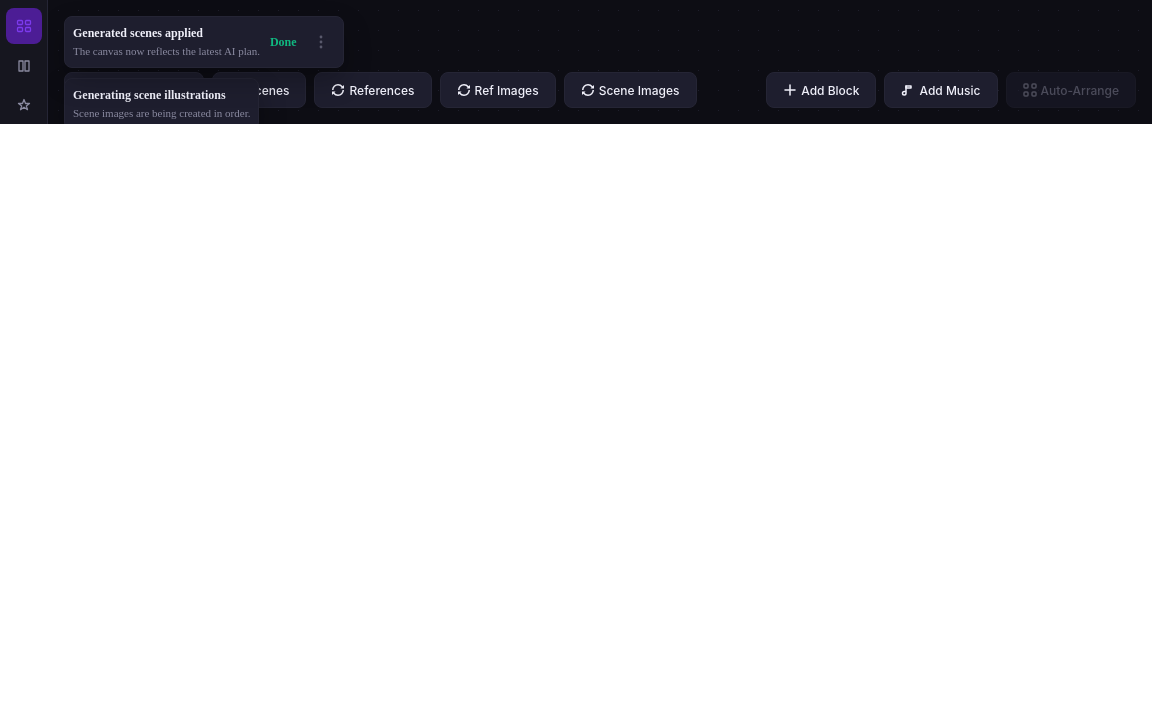
Test: StoryboardPageWorkspace — status menu wiring (T6 integration) › enumerates only the present losses in the confirm modal (AC-08)
The image size is (1152, 720).
Click the button with test id "storyboard-status-menu-trigger": (321, 42) [307, 28, 335, 56]
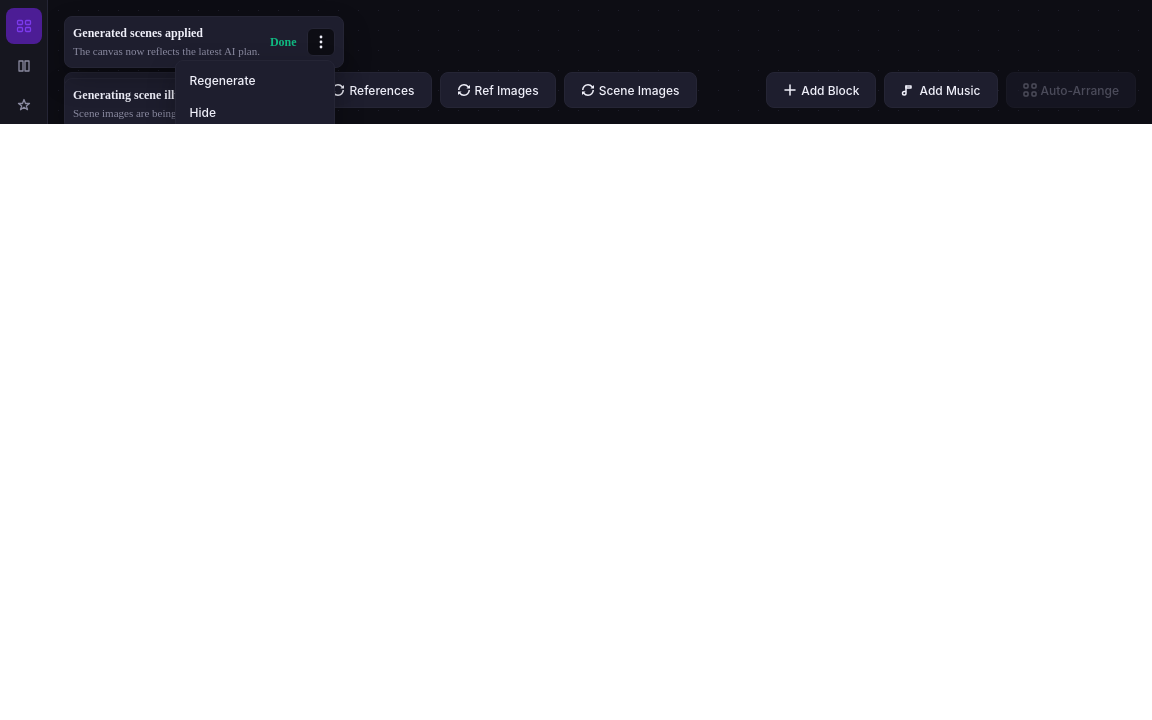
Click the menu item with test id "storyboard-status-menu-regenerate": (255, 81) [180, 65, 330, 97]
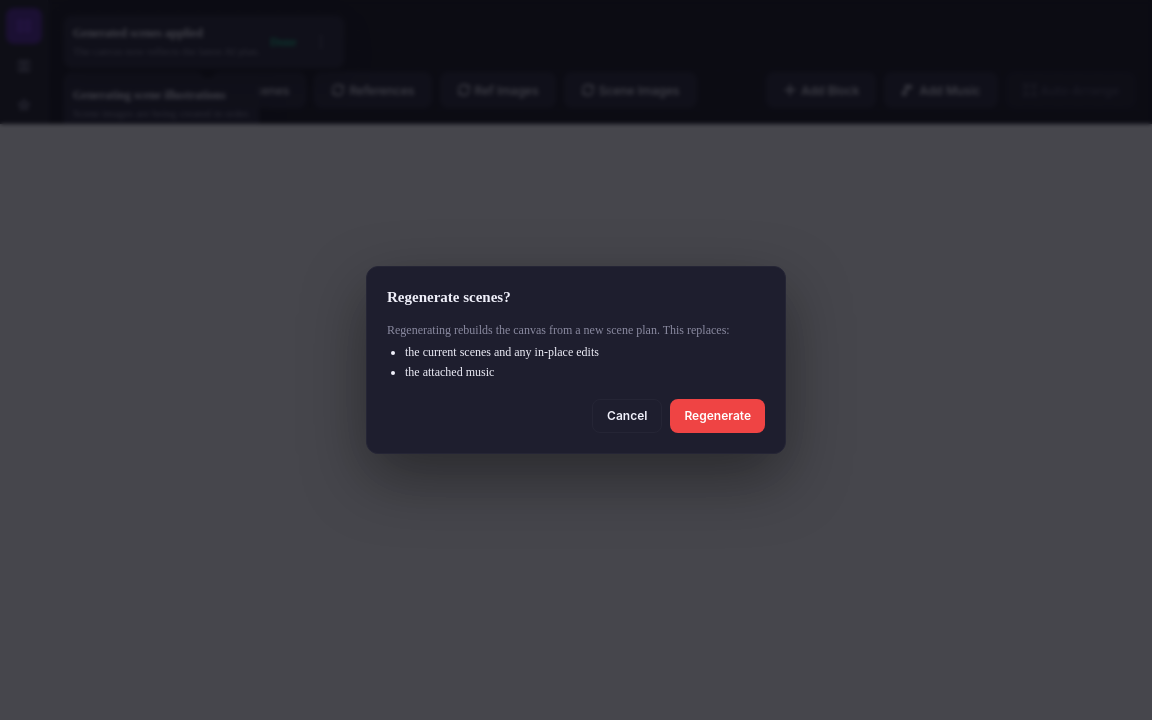
Now the list item with test id "storyboard-regenerate-loss-scenes" is shown, box [405, 345, 599, 359]
Now the list item with test id "storyboard-regenerate-loss-music" is shown, box [405, 365, 494, 379]
